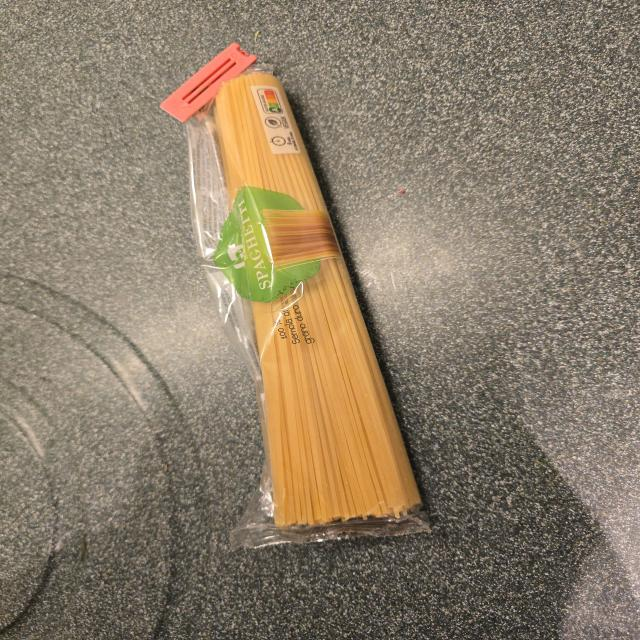Pasta: (161, 43, 430, 547)
